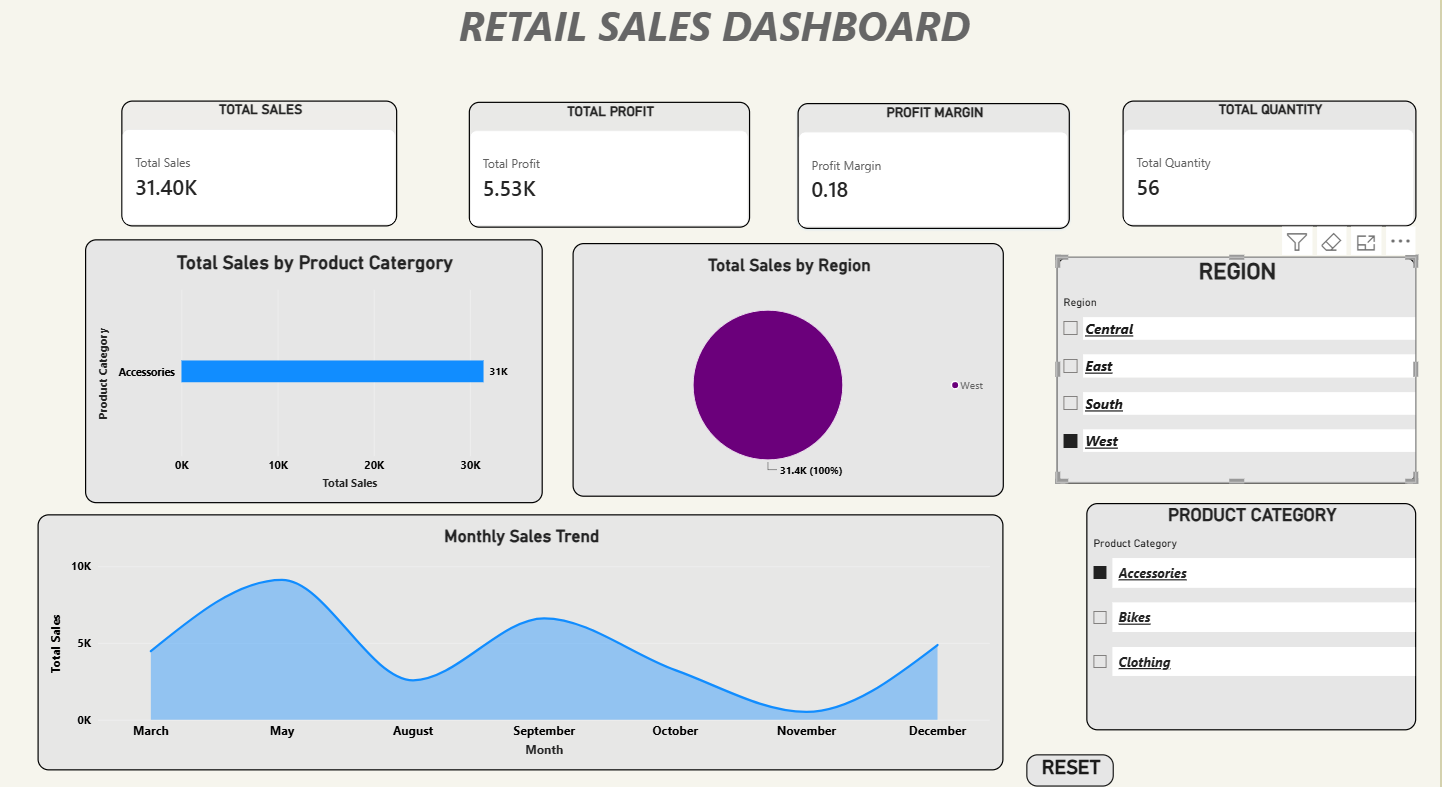

The dashboard page shown, as its layout file describes it:
{"tool":"powerbi","page":{"name":"Page 1","canvas":[1920,1080],"ordinal":0},"visuals":[{"type":"textbox","box":[612.2,0,727.3,87.2],"z":0},{"type":"cardVisual","title":"TOTAL SALES","fields":{"Data":["Sheet1.Total Sales"]},"box":[161.7,136.7,368.3,168.3],"z":1},{"type":"cardVisual","title":"TOTAL PROFIT","fields":{"Data":["Sheet1.Total Profit"]},"box":[625,138.3,375,168.3],"z":2},{"type":"cardVisual","title":"PROFIT MARGIN","fields":{"Data":["Sheet1.Profit Margin"]},"box":[1063.3,140,363.3,168.3],"z":3},{"type":"cardVisual","title":"TOTAL QUANTITY","fields":{"Data":["Sheet1.Total Quantity"]},"box":[1496.7,136.7,391.7,168.3],"z":4},{"type":"clusteredBarChart","title":"Total Sales by Product Catergory","fields":{"Category":["Sheet1.Product Category"],"Y":["Sheet1.Total Sales"]},"box":[113.3,321.7,610,351.7],"z":5},{"type":"pieChart","title":"Total Sales by Region","fields":{"Category":["Sheet1.Region"],"Y":["Sheet1.Total Sales"]},"box":[763.3,326.7,575,338.3],"z":6},{"type":"areaChart","title":"Monthly Sales Trend","fields":{"Category":["Sheet1.Order Date.Variation.Date Hierarchy.Month"],"Y":["Sheet1.Total Sales"]},"box":[50,688.3,1288.3,341.7],"z":7},{"type":"slicer","title":"PRODUCT CATEGORY","fields":{"Values":["Sheet1.Product Category"]},"box":[1448.3,673.3,440,303.3],"z":9},{"type":"actionButton","title":"RESET","box":[1368.3,1008.3,116.7,43.3],"z":10},{"type":"slicer","title":"REGION","fields":{"Values":["Sheet1.Region"]},"box":[1497,327,392,338],"z":11}]}

Visuals, with their boxes in screenshot pixels (x1, y1, x2, y2):
textbox: x1=457 y1=0 x2=1000 y2=61
"TOTAL SALES" cardVisual: x1=121 y1=98 x2=396 y2=224
"TOTAL PROFIT" cardVisual: x1=467 y1=99 x2=747 y2=225
"PROFIT MARGIN" cardVisual: x1=794 y1=101 x2=1065 y2=226
"TOTAL QUANTITY" cardVisual: x1=1117 y1=98 x2=1410 y2=224
"Total Sales by Product Catergory" clusteredBarChart: x1=85 y1=236 x2=540 y2=499
"Total Sales by Region" pieChart: x1=570 y1=240 x2=999 y2=493
"Monthly Sales Trend" areaChart: x1=37 y1=510 x2=999 y2=765
"PRODUCT CATEGORY" slicer: x1=1081 y1=499 x2=1410 y2=725
"RESET" actionButton: x1=1022 y1=749 x2=1109 y2=781
"REGION" slicer: x1=1118 y1=240 x2=1410 y2=493
